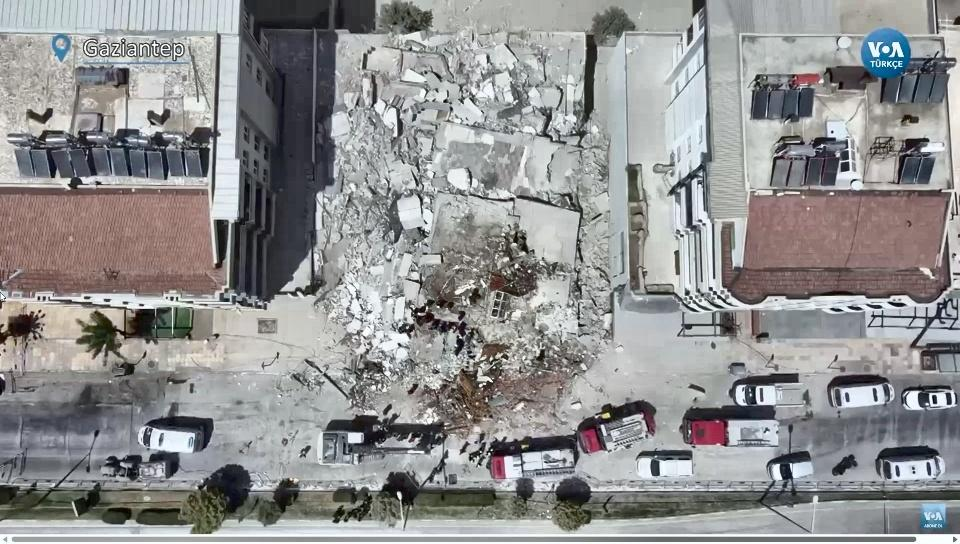kapali: (267, 374, 645, 494)
